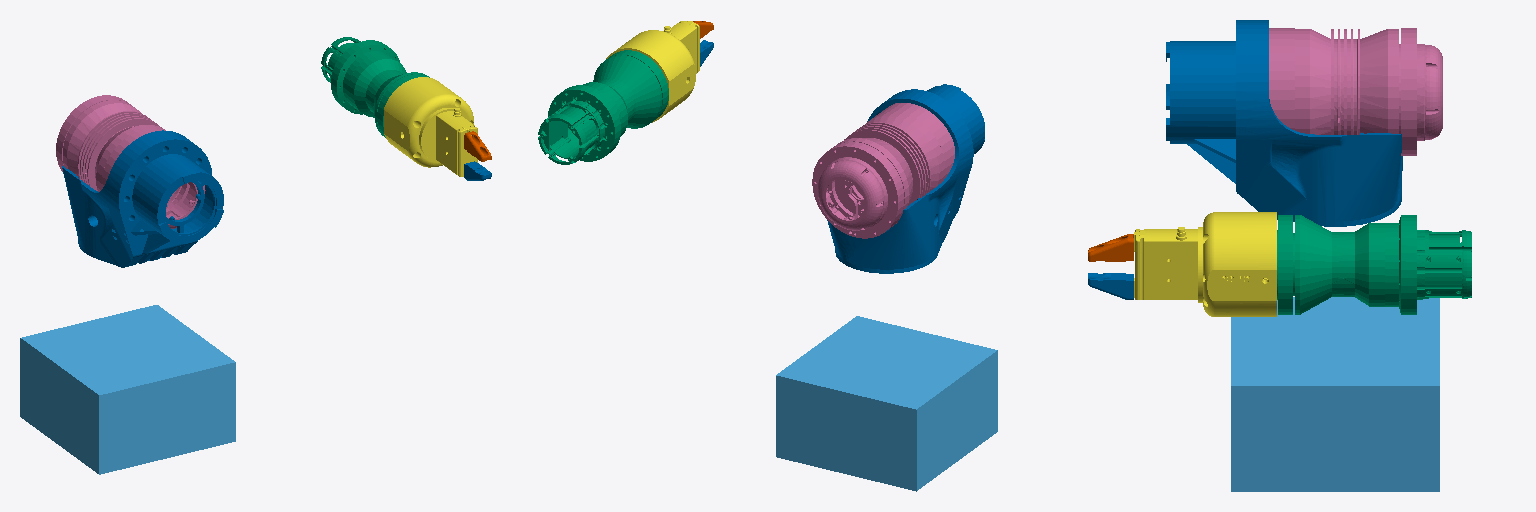
URDF robot description (modrob0):
<?xml version="1.0"?>
<robot name="modrob0">

	<link name="world"/>

	<gazebo>
		<plugin name="gazebo_ros_control" filename="libgazebo_ros_control.so">
			<robotNamespace>/modrob0</robotNamespace>
			<robotSimType>gazebo_ros_control/DefaultRobotHWSim</robotSimType>
		</plugin>
	</gazebo>

	<link name="part0">
		<visual>
			<origin rpy="0.000000 -0.000000 0.000000" xyz="0.000000 0.000000 0.100000"/>
			<geometry>
				<mesh filename="package://modrob_simulation/stl_files/B_simple.STL"/>
			</geometry>
		</visual>
		<collision>
			<origin rpy="0.000000 -0.000000 0.000000" xyz="0.000000 0.000000 0.100000"/>
			<geometry>
				<mesh filename="package://modrob_simulation/stl_files/B_simple.STL"/>
			</geometry>
		</collision>
	</link>

	<gazebo reference="part0">
		<material>Gazebo/DarkGrey</material>
	</gazebo>

	<gazebo reference="part0">
		<kp>0.000000</kp>
		<kd>0.000000</kd>
		<mu1>0.000000</mu1>
		<mu2>0.000000</mu2>
	</gazebo>

	<link name="distal_link_of_joint0_NV">
		<inertial>
			<origin rpy="0.000000 0.000000 0.000000" xyz="0.000630 0.000190 -0.009660"/>
			<mass value="0.588000"/>
			<inertia ixx="0.000840" ixy="0.000000" ixz="-0.000011" iyy="0.000833" iyz="-0.000001" izz="0.000732"/>
		</inertial>
	</link>

	<gazebo reference="distal_link_of_joint0_NV">
		<material></material>
	</gazebo>

	<gazebo reference="distal_link_of_joint0_NV">
		<kp>0.000000</kp>
		<kd>0.000000</kd>
		<mu1>0.000000</mu1>
		<mu2>0.000000</mu2>
	</gazebo>

	<link name="proximal_link_of_joint0">
		<inertial>
			<origin rpy="0.000000 0.000000 0.000000" xyz="0.000180 0.000130 0.054300"/>
			<mass value="2.795000"/>
			<inertia ixx="0.014000" ixy="-0.000002" ixz="-0.000003" iyy="0.014000" iyz="0.000005" izz="0.000732"/>
		</inertial>
		<visual>
			<origin rpy="0.000000 -0.000000 0.000000" xyz="0.000000 0.000000 0.135300"/>
			<geometry>
				<mesh filename="package://modrob_simulation/stl_files/MXL.STL"/>
			</geometry>
		</visual>
		<collision>
			<origin rpy="0.000000 -0.000000 0.000000" xyz="0.000000 0.000000 0.135300"/>
			<geometry>
				<mesh filename="package://modrob_simulation/stl_files/MXL.STL"/>
			</geometry>
		</collision>
	</link>

	<gazebo reference="proximal_link_of_joint0">
		<material>Gazebo/Blue</material>
	</gazebo>

	<gazebo reference="proximal_link_of_joint0">
		<kp>10000.000000</kp>
		<kd>10.000000</kd>
		<mu1>0.200000</mu1>
		<mu2>0.200000</mu2>
	</gazebo>

	<link name="link1">
		<inertial>
			<origin rpy="0.000000 0.000000 0.000000" xyz="0.000200 -0.036560 0.054520"/>
			<mass value="0.581910"/>
			<inertia ixx="0.004886" ixy="0.000007" ixz="-0.000007" iyy="0.003453" iyz="0.001714" izz="0.000000"/>
		</inertial>
		<visual>
			<origin rpy="2.356194 -1.570796 2.356194" xyz="0.000000 -0.065500 0.100900"/>
			<geometry>
				<mesh filename="package://modrob_simulation/stl_files/L_Rasmus_01_90_LL.STL"/>
			</geometry>
		</visual>
		<collision>
			<origin rpy="2.356194 -1.570796 2.356194" xyz="0.000000 -0.065500 0.100900"/>
			<geometry>
				<mesh filename="package://modrob_simulation/stl_files/L_Rasmus_01_90_LL.STL"/>
			</geometry>
		</collision>
	</link>

	<gazebo reference="link1">
		<material>Gazebo/DarkGrey</material>
	</gazebo>

	<gazebo reference="link1">
		<kp>0.000000</kp>
		<kd>0.000000</kd>
		<mu1>0.000000</mu1>
		<mu2>0.000000</mu2>
	</gazebo>

	<link name="distal_link_of_joint1_NV">
		<inertial>
			<origin rpy="0.000000 0.000000 0.000000" xyz="0.000630 0.000190 -0.009660"/>
			<mass value="0.588000"/>
			<inertia ixx="0.000840" ixy="0.000000" ixz="-0.000011" iyy="0.000833" iyz="-0.000001" izz="0.000732"/>
		</inertial>
	</link>

	<gazebo reference="distal_link_of_joint1_NV">
		<material></material>
	</gazebo>

	<gazebo reference="distal_link_of_joint1_NV">
		<kp>0.000000</kp>
		<kd>0.000000</kd>
		<mu1>0.000000</mu1>
		<mu2>0.000000</mu2>
	</gazebo>

	<link name="proximal_link_of_joint1">
		<inertial>
			<origin rpy="0.000000 0.000000 0.000000" xyz="0.000180 0.000130 0.054300"/>
			<mass value="2.795000"/>
			<inertia ixx="0.014000" ixy="0.000002" ixz="0.000003" iyy="0.014000" iyz="-0.000005" izz="0.000732"/>
		</inertial>
		<visual>
			<origin rpy="3.141593 -3.141593 1.570796" xyz="0.000000 0.000000 0.135300"/>
			<geometry>
				<mesh filename="package://modrob_simulation/stl_files/MXL+90.STL"/>
			</geometry>
		</visual>
		<collision>
			<origin rpy="3.141593 -3.141593 1.570796" xyz="0.000000 0.000000 0.135300"/>
			<geometry>
				<mesh filename="package://modrob_simulation/stl_files/MXL+90.STL"/>
			</geometry>
		</collision>
	</link>

	<gazebo reference="proximal_link_of_joint1">
		<material>Gazebo/Blue</material>
	</gazebo>

	<gazebo reference="proximal_link_of_joint1">
		<kp>10000.000000</kp>
		<kd>10.000000</kd>
		<mu1>0.200000</mu1>
		<mu2>0.200000</mu2>
	</gazebo>

	<link name="link2">
		<inertial>
			<origin rpy="0.000000 0.000000 0.000000" xyz="0.196128 0.000005 0.044778"/>
			<mass value="1.591660"/>
			<inertia ixx="0.005537" ixy="-0.000002" ixz="-0.014137" iyy="0.093690" iyz="-0.000001" izz="0.000000"/>
		</inertial>
		<visual>
			<origin rpy="-3.141593 -0.000000 0.000000" xyz="0.350000 0.000000 0.000000"/>
			<geometry>
				<mesh filename="package://modrob_simulation/stl_files/L_360_350_LS.STL"/>
			</geometry>
		</visual>
		<collision>
			<origin rpy="-3.141593 -0.000000 0.000000" xyz="0.350000 0.000000 0.000000"/>
			<geometry>
				<mesh filename="package://modrob_simulation/stl_files/L_360_350_LS.STL"/>
			</geometry>
		</collision>
	</link>

	<gazebo reference="link2">
		<material>Gazebo/DarkGrey</material>
	</gazebo>

	<gazebo reference="link2">
		<kp>0.000000</kp>
		<kd>0.000000</kd>
		<mu1>0.000000</mu1>
		<mu2>0.000000</mu2>
	</gazebo>

	<link name="tool_dummy">
		<inertial>
			<origin rpy="0.000000 0.000000 0.000000" xyz="0.000610 0.000080 0.047140"/>
			<mass value="0.000000"/>
			<inertia ixx="0.000000" ixy="0.000000" ixz="0.000000" iyy="0.000000" iyz="0.000000" izz="0.000000"/>
		</inertial>
	</link>

	<gazebo reference="tool_dummy">
		<material></material>
	</gazebo>

	<gazebo reference="tool_dummy">
		<kp>0.000000</kp>
		<kd>0.000000</kd>
		<mu1>0.000000</mu1>
		<mu2>0.000000</mu2>
	</gazebo>

	<link name="distal_link_of_joint2_NV">
		<inertial>
			<origin rpy="0.000000 0.000000 0.000000" xyz="-0.000044 -0.000008 -0.001115"/>
			<mass value="0.289400"/>
			<inertia ixx="0.000178" ixy="-0.000000" ixz="-0.000000" iyy="0.000178" iyz="0.000000" izz="0.000192"/>
		</inertial>
	</link>

	<gazebo reference="distal_link_of_joint2_NV">
		<material></material>
	</gazebo>

	<gazebo reference="distal_link_of_joint2_NV">
		<kp>0.000000</kp>
		<kd>0.000000</kd>
		<mu1>0.000000</mu1>
		<mu2>0.000000</mu2>
	</gazebo>

	<link name="proximal_link_of_joint2">
		<inertial>
			<origin rpy="0.000000 0.000000 0.000000" xyz="0.000610 0.000080 0.047140"/>
			<mass value="1.253380"/>
			<inertia ixx="0.004000" ixy="0.000000" ixz="0.000016" iyy="0.005000" iyz="-0.000000" izz="0.000192"/>
		</inertial>
		<visual>
			<origin rpy="0.000000 -0.000000 0.000000" xyz="0.000000 0.000000 0.119550"/>
			<geometry>
				<mesh filename="package://modrob_simulation/stl_files/MS.STL"/>
			</geometry>
		</visual>
		<collision>
			<origin rpy="0.000000 -0.000000 0.000000" xyz="0.000000 0.000000 0.119550"/>
			<geometry>
				<mesh filename="package://modrob_simulation/stl_files/MS.STL"/>
			</geometry>
		</collision>
	</link>

	<gazebo reference="proximal_link_of_joint2">
		<material>Gazebo/Blue</material>
	</gazebo>

	<gazebo reference="proximal_link_of_joint2">
		<kp>10000.000000</kp>
		<kd>10.000000</kd>
		<mu1>0.200000</mu1>
		<mu2>0.200000</mu2>
	</gazebo>


	<link name="hand">
		<inertial>
			<origin rpy="0.000000 0.000000 0.000000" xyz="0.000000 0.000000 0.06250"/>
			<mass value="0.184000"/>
			<inertia ixx="0.550000" ixy="-0.000002" ixz="-0.000003" iyy="0.930000" iyz="0.000005" izz="0.550000"/>
		</inertial>
		<visual>
			<origin rpy="0.000000 -0.000000 0.000000" xyz="0.000000 0.000000 0.06250"/>
		<geometry>
				<mesh filename="package://modrob_simulation/stl_files/E_Schimaneck.STL"/>
			</geometry>
		</visual>
		<collision>
			<origin rpy="0.000000 -0.000000 0.000000" xyz="0.000000 0.000000 0.062500"/>
			<geometry>
				<mesh filename="package://modrob_simulation/stl_files/E_Schimaneck.STL"/>
			</geometry>
			</collision>
	</link>

	<gazebo reference="hand">
		<material>Gazebo/DarkGrey</material>
	</gazebo>

	<gazebo reference="hand">
		<kp>0.000000</kp>
		<kd>0.000000</kd>
		<mu1>0.000000</mu1>
		<mu2>0.000000</mu2>
	</gazebo>

	<link name="finger1">
		<inertial>
			<origin rpy="0.00000 0.000000 0.0" xyz="0.0 -0.000 0.001500"/>
			<mass value="0.006944"/>
			<inertia ixx="0.000004629" ixy="0.000000486" ixz="0.000000972" iyy="0.000004157" iyz="0.000001389" izz="0.00000138"/>
		</inertial>
		<visual>
			<origin rpy="0.000000 0.000000 0.0" xyz="0.0 -0.000 0.001500"/>
			<geometry>
				<mesh filename="package://modrob_simulation/stl_files/finger_Birne_Gimatic_m.STL"/>
			</geometry>
		</visual>
		<collision>
			<origin rpy="0.000000 0.000000 0.0" xyz="0.0 -0.000 0.001500"/>
			<geometry>
				<mesh filename="package://modrob_simulation/stl_files/finger_Birne_Gimatic_m.STL"/>
			</geometry>
		</collision>
	</link>

	<gazebo reference="finger1">
		<material>Gazebo/Blue</material>
	</gazebo>

	<gazebo reference="finger1">
		<kp>110.000000</kp>
		<kd>10.000000</kd>
		<mu1>0.380000</mu1>
		<mu2>0.380000</mu2>
	</gazebo>

	<link name="finger2">
		<inertial>
			<origin rpy="0.00000 0.000000 0.0" xyz="0.000 0.00 0.001500"/>
			<mass value="0.006944"/>
			<inertia ixx="0.000004629" ixy="0.000000486" ixz="0.000000972" iyy="0.000004157" iyz="0.000001389" izz="0.00000138"/>
		</inertial>
		<visual>
			<origin rpy="0.000000 0.000000 0.0" xyz="0.000 0.00 0.001500"/>
			<geometry>
				<mesh filename="package://modrob_simulation/stl_files/finger_Birne_Gimatic_m.STL"/>
			</geometry>
		</visual>
		<collision>
			<origin rpy="0.000000 0.000000 0.0" xyz="0.000 0.00 0.001500"/>
			<geometry>
				<mesh filename="package://modrob_simulation/stl_files/finger_Birne_Gimatic_m.STL"/>
			</geometry>
		</collision>
	</link>

	<gazebo reference="finger2">
		<material>Gazebo/Blue</material>
	</gazebo>

	<gazebo reference="finger1">
		<kp>110.000000</kp>
		<kd>10.000000</kd>
		<mu1>0.380000</mu1>
		<mu2>0.380000</mu2>
	</gazebo>

	<joint name="fixed" type="fixed">
		<parent link="world"/>
		<child link="part0"/>
	</joint>
	<joint name="part0_joint0" type="fixed">
		<origin xyz="0.000000 0.000000 0.100000" rpy="0.000000 -0.000000 0.000000"/>
		<parent link="part0"/>
		<child link="proximal_link_of_joint0"/>
		<axis xyz="0.000000 0.000000 0.000000"/>
		<dynamics damping="0.000000" friction="0.000000"/>
	</joint>

	<joint name="joint0_link1" type="fixed">
		<origin xyz="0.000000 0.000000 0.067650" rpy="0.000000 -0.000000 0.000000"/>
		<parent link="distal_link_of_joint0_NV"/>
		<child link="link1"/>
		<axis xyz="0.000000 0.000000 0.000000"/>
		<dynamics damping="0.000000" friction="0.000000"/>
	</joint>

	<joint name="joint0" type="revolute">
		<origin xyz="0.000000 0.000000 0.067650" rpy="0.000000 -0.000000 0.000000"/>
		<parent link="proximal_link_of_joint0"/>
		<child link="distal_link_of_joint0_NV"/>
		<axis xyz="0.000000 0.000000 1.000000"/>
		<dynamics damping="51.459999" friction="36.560001"/>
		<limit effort="205.919998" velocity="1.890000" lower="-3.141593" upper="3.141593"/>
		<sensor name="force_torque_joint0" type="force_torque">
			<update_rate>100</update_rate>
		</sensor>
	</joint>

	<transmission name="trans0">
		<type>transmission_interface/SimpleTransmission</type>
		<joint name="joint0">
			<hardwareInterface>hardware_interface/EffortJointInterface</hardwareInterface>
		</joint>
		<actuator name="motor0">
			<hardwareInterface>hardware_interface/EffortJointInterface</hardwareInterface>
			<mechanicalReduction>160.000000</mechanicalReduction>
		</actuator>
	</transmission>

	<joint name="link1_joint1" type="fixed">
		<origin xyz="0.000000 -0.065500 0.100900" rpy="2.356194 -1.570796 2.356194"/>
		<parent link="link1"/>
		<child link="proximal_link_of_joint1"/>
		<axis xyz="0.000000 0.000000 0.000000"/>
		<dynamics damping="0.000000" friction="0.000000"/>
	</joint>

	<joint name="joint1_link2" type="fixed">
		<origin xyz="0.000000 0.000000 0.067650" rpy="3.141593 -3.141593 0.000000"/>
		<parent link="distal_link_of_joint1_NV"/>
		<child link="link2"/>
		<axis xyz="0.000000 0.000000 0.000000"/>
		<dynamics damping="0.000000" friction="0.000000"/>
	</joint>

	<joint name="joint1" type="revolute">
		<origin xyz="0.000000 0.000000 0.067650" rpy="3.141593 -3.141593 1.570796"/>
		<parent link="proximal_link_of_joint1"/>
		<child link="distal_link_of_joint1_NV"/>
		<axis xyz="0.000000 0.000000 1.000000"/>
		<dynamics damping="51.459999" friction="36.560001"/>
		<limit effort="205.919998" velocity="0.800000" lower="-3.141593" upper="3.141593"/>
		<sensor name="force_torque_joint1" type="force_torque">
			<update_rate>100</update_rate>
		</sensor>
	</joint>

	<transmission name="trans1">
		<type>transmission_interface/SimpleTransmission</type>
		<joint name="joint1">
			<hardwareInterface>hardware_interface/EffortJointInterface</hardwareInterface>
		</joint>
		<actuator name="motor1">
			<hardwareInterface>hardware_interface/EffortJointInterface</hardwareInterface>
			<mechanicalReduction>160.000000</mechanicalReduction>
		</actuator>
	</transmission>

	<joint name="link2_joint2" type="fixed">
		<origin xyz="0.350000 0.000000 0.000000" rpy="-3.141593 -0.000000 0.000000"/>
		<parent link="link2"/>
		<child link="proximal_link_of_joint2"/>
		<axis xyz="0.000000 0.000000 0.000000"/>
		<dynamics damping="0.000000" friction="0.000000"/>
	</joint>

	<joint name="joint2_tool_dummy" type="fixed">
		<origin xyz="0.000000 0.000000 0.119550" rpy="0.000000 -0.000000 0.000000"/>
		<parent link="distal_link_of_joint2_NV"/>
		<child link="tool_dummy"/>
		<axis xyz="0.000000 0.000000 0.000000"/>
		<dynamics damping="0.000000" friction="0.000000"/>
	</joint>

	<joint name="joint2" type="revolute">
		<origin xyz="0.000000 0.000000 0.059775" rpy="0.000000 -0.000000 0.000000"/>
		<parent link="proximal_link_of_joint2"/>
		<child link="distal_link_of_joint2_NV"/>
		<axis xyz="0.000000 0.000000 1.000000"/>
		<dynamics damping="13.170000" friction="6.019000"/>
		<limit effort="54.000000" velocity="3.050000" lower="-3.141593" upper="3.141593"/>
		<sensor name="force_torque_joint2" type="force_torque">
			<update_rate>100</update_rate>
		</sensor>
	</joint>

	<transmission name="trans2">
		<type>transmission_interface/SimpleTransmission</type>
		<joint name="joint2">
			<hardwareInterface>hardware_interface/EffortJointInterface</hardwareInterface>
		</joint>
		<actuator name="motor2">
			<hardwareInterface>hardware_interface/EffortJointInterface</hardwareInterface>
			<mechanicalReduction>120.000000</mechanicalReduction>
		</actuator>
	</transmission>


	<joint name="fixed_gripper_to_arm_link" type="fixed">
		<origin rpy="0.000000 0.000000 0.000000" xyz="0.000000 0.000000 0.000000"/>
		<parent link="tool_dummy"/>
		<child link="hand"/>
	</joint>

	<joint name="hand_to_finger1" type="prismatic">
		<origin rpy="0.000000 0.000000 +1.570796327" xyz="0.00700 -0.03200 0.06200"/>
		<parent link="hand"/>
		<child link="finger1"/>
		<dynamics damping="12.590000" friction="0.400000"/>
		<limit effort="3.0" lower="-0.0" upper="0.0100" velocity="0.5"/> <!-- was 0.38 and 0.0 -->
	</joint>

	<joint name="hand_to_finger2" type="prismatic">
		<origin rpy="0.000000 0.000000 -1.570796327" xyz="-0.00700 0.0620 0.06200"/>
		<parent link="hand"/>
		<child link="finger2"/>
		<dynamics damping="12.590000" friction="0.400000"/>
		<limit effort="3.0" lower="0.03" upper="0.04" velocity="0.5"/>
	</joint>

	<transmission name="trans_hand_to_finger1">
		<type>transmission_interface/SimpleTransmission</type>
		<joint name="hand_to_finger1">
			<hardwareInterface>hardware_interface/EffortJointInterface</hardwareInterface>
		</joint>
		<actuator name="motor_hand_to_finger1">
			<hardwareInterface>hardware_interface/EffortJointInterface</hardwareInterface>
			<mechanicalReduction>160</mechanicalReduction>
		</actuator>
	</transmission>

	<transmission name="trans_hand_to_finger2">
		<type>transmission_interface/SimpleTransmission</type>
		<joint name="hand_to_finger2">
			<hardwareInterface>hardware_interface/EffortJointInterface</hardwareInterface>
		</joint>
		<actuator name="motor_hand_to_finger2">
			<hardwareInterface>hardware_interface/EffortJointInterface</hardwareInterface>
			<mechanicalReduction>160</mechanicalReduction>
		</actuator>
	</transmission>

</robot>

--- Facts derived from the render (not from the file) ---
Views: 3 orthographic renders of the robot side by side, from view 1: azimuth 30°, elevation 25°; view 2: azimuth 150°, elevation 25°; view 3: azimuth 270°, elevation 25°.
Model modrob0 with 14 links and 13 joints (3 revolute, 2 prismatic, 8 fixed), rooted at world, posed joints at zero except 1 at the middle of their limits (hand_to_finger2 = 0.035).
Visible links, largest first — view 1: part0, link1, proximal_link_of_joint1, hand, proximal_link_of_joint2; view 2: part0, proximal_link_of_joint1, link1, proximal_link_of_joint2, hand; view 3: part0, link1, proximal_link_of_joint1, proximal_link_of_joint2, hand, finger2, finger1.
Link boxes in pixels (bbox=[...]): part0: bbox=[20, 305, 235, 474]; link1: bbox=[62, 130, 223, 267]; proximal_link_of_joint1: bbox=[56, 95, 205, 228]; hand: bbox=[384, 77, 477, 176]; proximal_link_of_joint2: bbox=[321, 37, 429, 137]; part0: bbox=[776, 316, 997, 491]; proximal_link_of_joint1: bbox=[812, 103, 954, 238]; link1: bbox=[827, 84, 984, 273]; proximal_link_of_joint2: bbox=[538, 50, 668, 164]; hand: bbox=[606, 21, 699, 122]; part0: bbox=[1231, 297, 1439, 491]; link1: bbox=[1166, 20, 1402, 226]; proximal_link_of_joint1: bbox=[1269, 28, 1442, 155]; proximal_link_of_joint2: bbox=[1277, 215, 1471, 314]; hand: bbox=[1134, 212, 1276, 316]; finger2: bbox=[1088, 234, 1133, 261]; finger1: bbox=[1088, 273, 1133, 299].
Size in the robot's own frame: 0.483 by 0.3304 by 0.3979 metres.
Meshes: 8 distinct files referenced, 7 mesh visuals loaded (6 binary STL); not drawn: 1 (reference not matched to a file when rendering), 1 (file found but could not be loaded).
